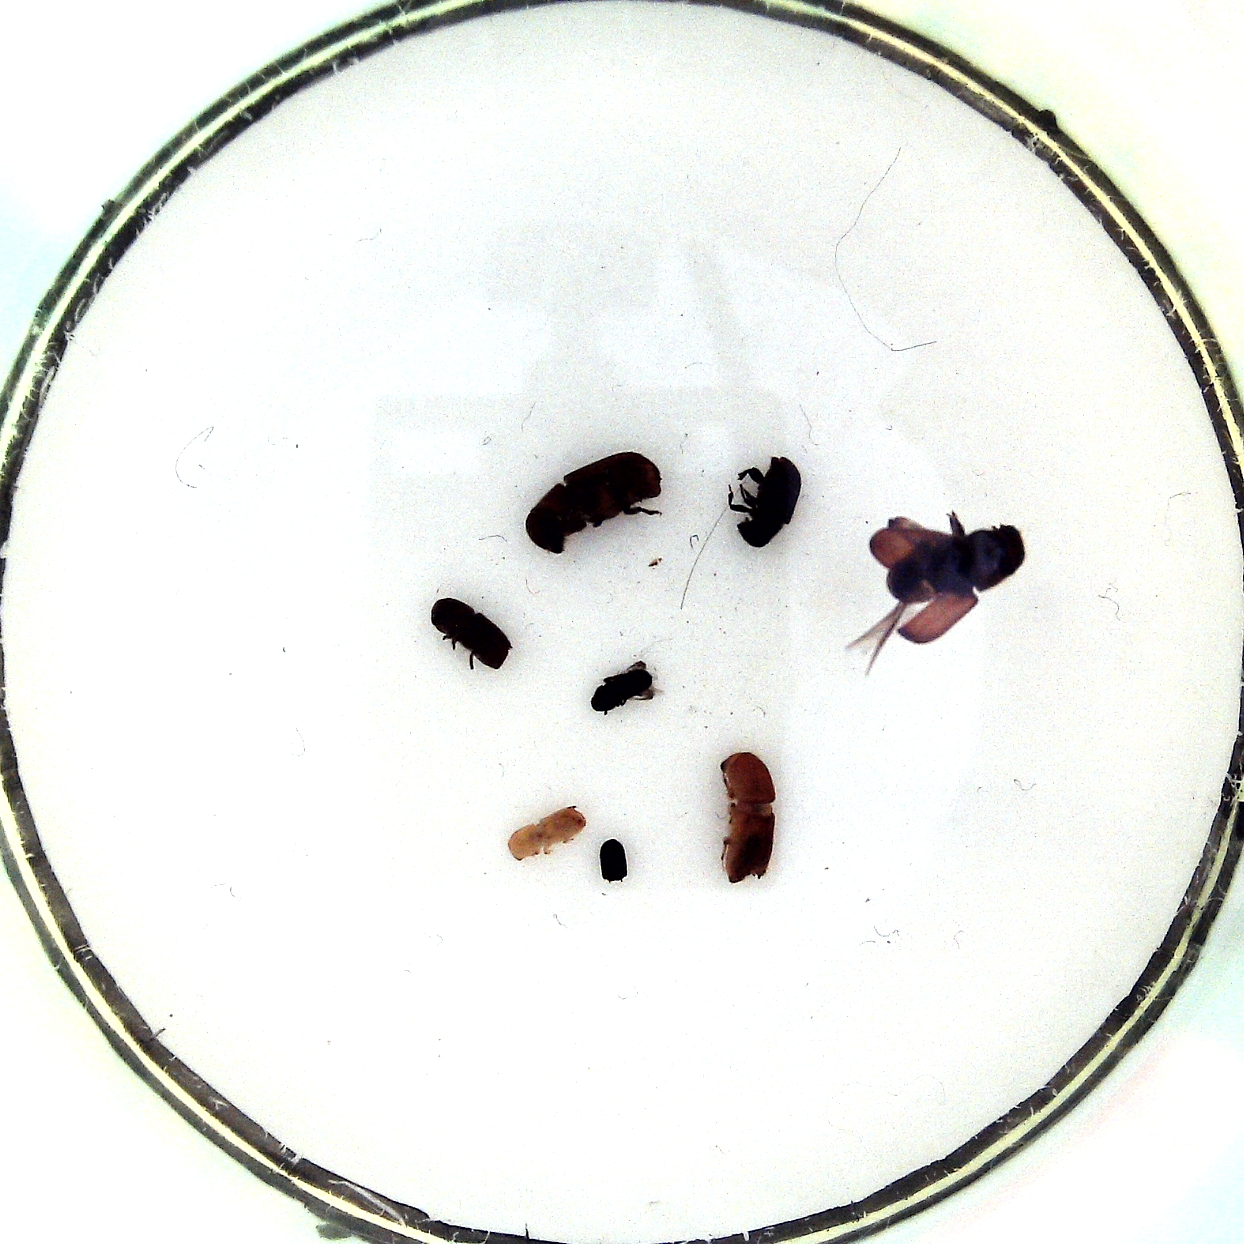Boerner: (711, 740, 786, 887)
Leconte: (837, 509, 1032, 679), (519, 447, 668, 555)
Linnaeus: (427, 592, 516, 674)
acuminatus: (501, 802, 589, 861)
armandi: (722, 448, 807, 553)
coleoptera: (586, 658, 661, 717), (594, 832, 635, 887)
